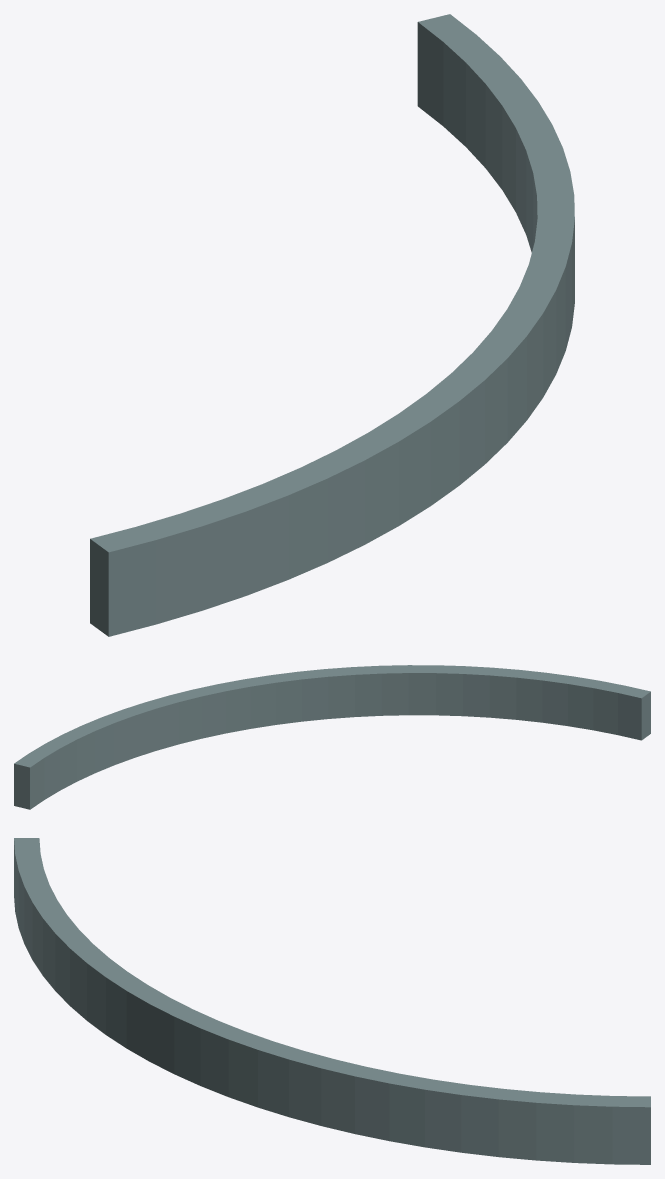
File: RoadPlan_WalkCorner_X_2L_CornerCurb_3.glb
3 renders of one model, top to bottom at view 1: azimuth 30°, elevation 25°; view 2: azimuth 150°, elevation 25°; view 3: azimuth 270°, elevation 25°, orthographic. The views are drawn at different scales.
Visible parts, largest first — view 1: RoadPlan_WalkCorner_X_2L_CornerCurb_3; view 2: RoadPlan_WalkCorner_X_2L_CornerCurb_3; view 3: RoadPlan_WalkCorner_X_2L_CornerCurb_3.
Part boxes in pixels (x1=…): RoadPlan_WalkCorner_X_2L_CornerCurb_3: x1=90, y1=14, x2=574, y2=636; RoadPlan_WalkCorner_X_2L_CornerCurb_3: x1=14, y1=665, x2=650, y2=809; RoadPlan_WalkCorner_X_2L_CornerCurb_3: x1=14, y1=838, x2=650, y2=1164.
Size of the model in its own units: 3 by 0.3 by 3.
